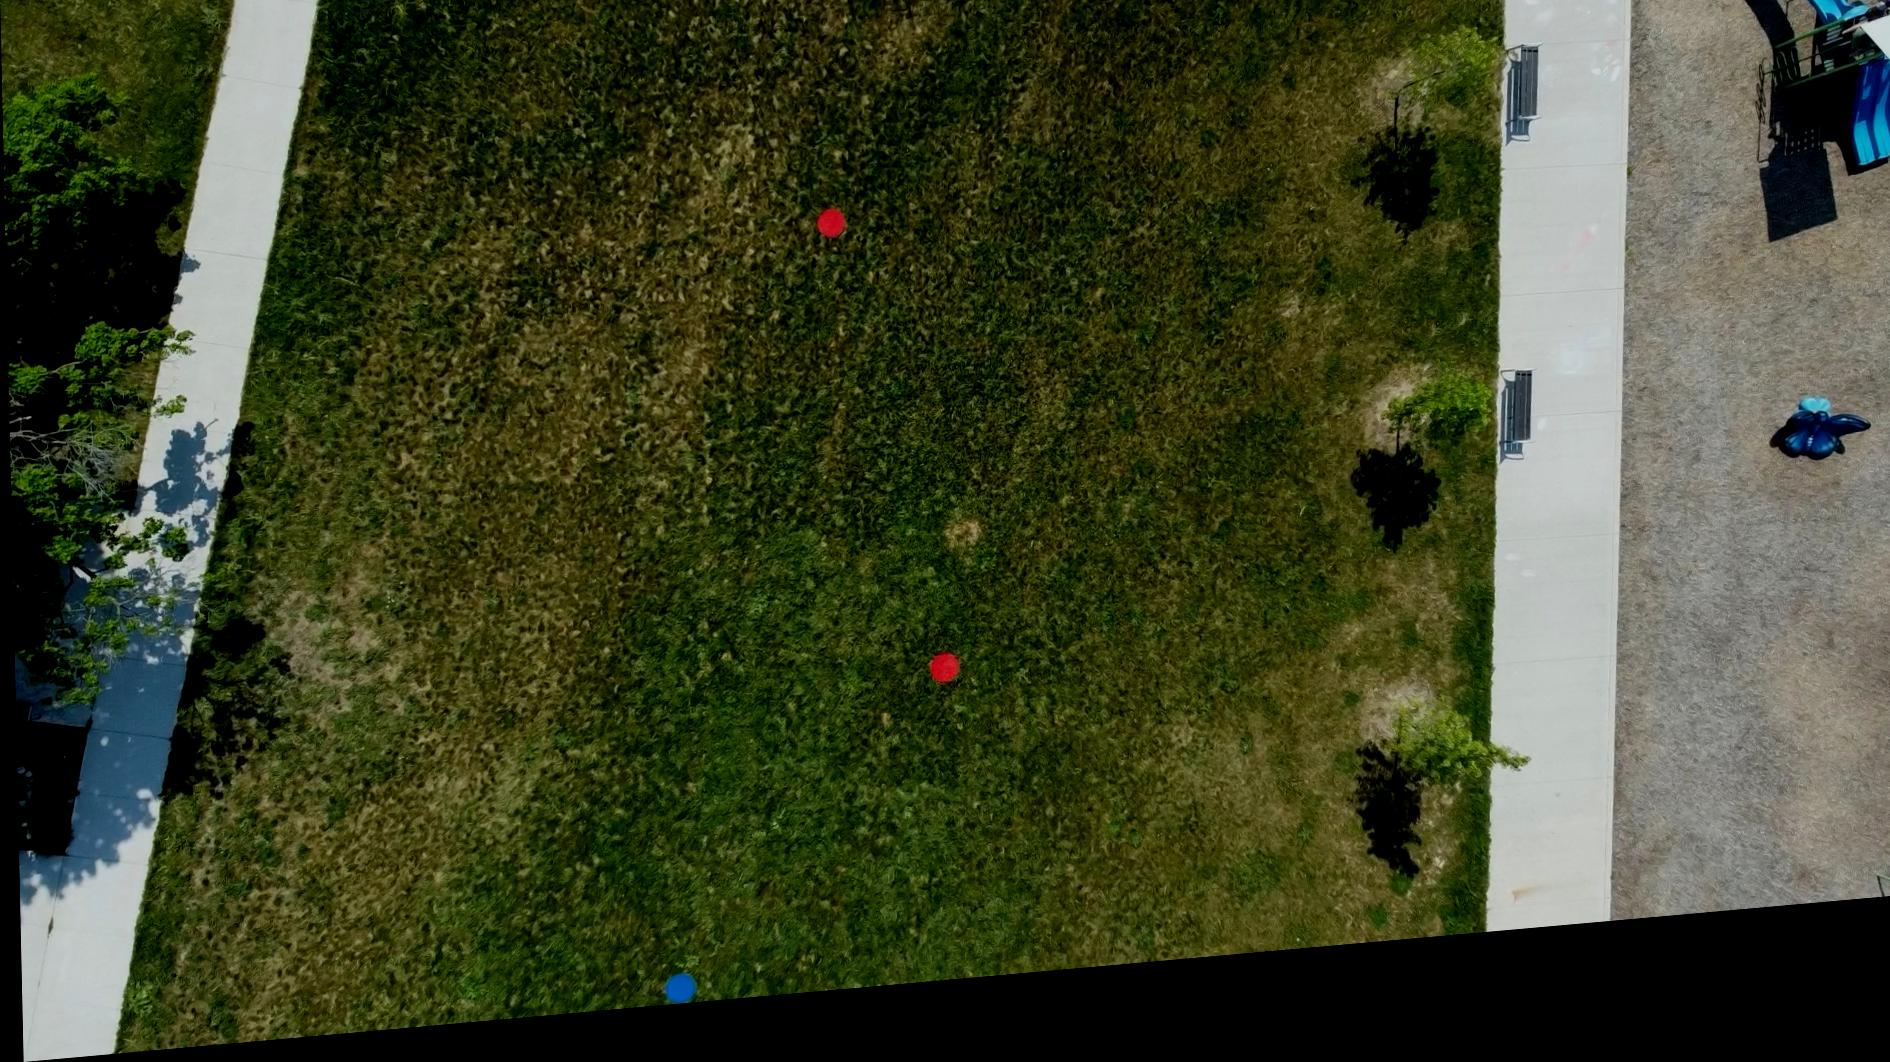Blue: (658, 984, 694, 1018)
Red: (923, 665, 959, 704), (811, 222, 848, 257)
